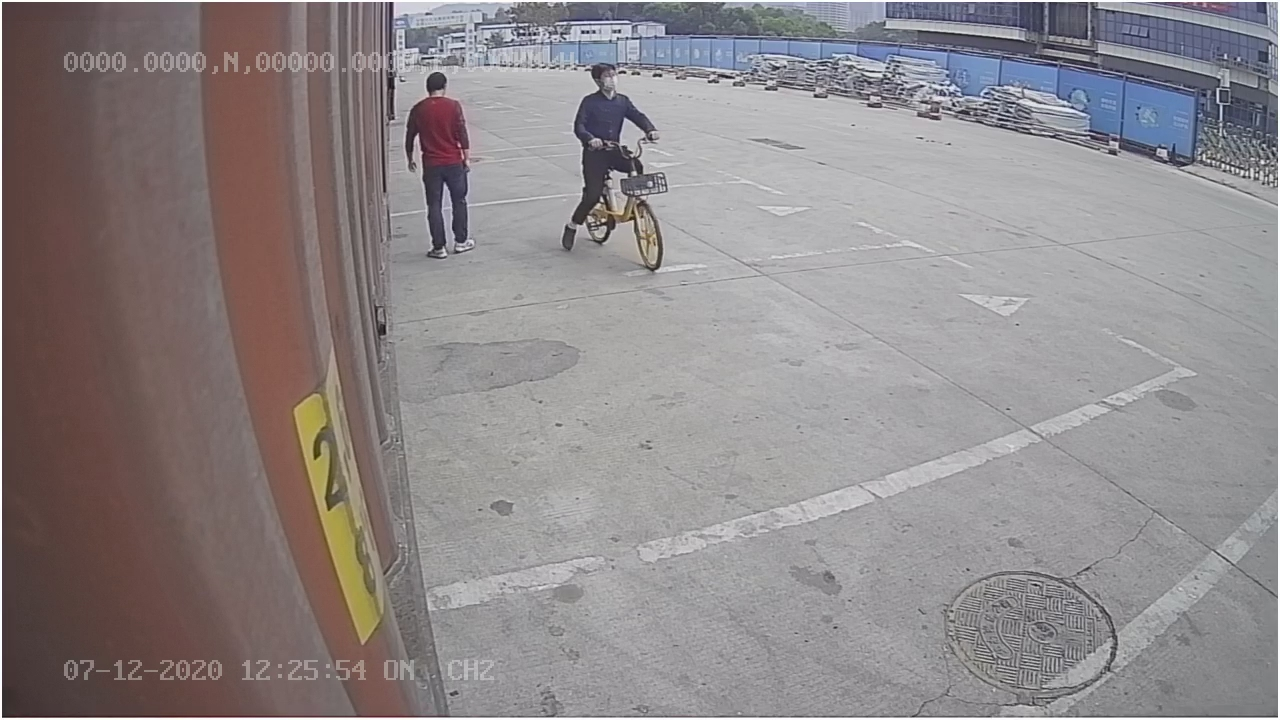person: (398, 65, 479, 265)
